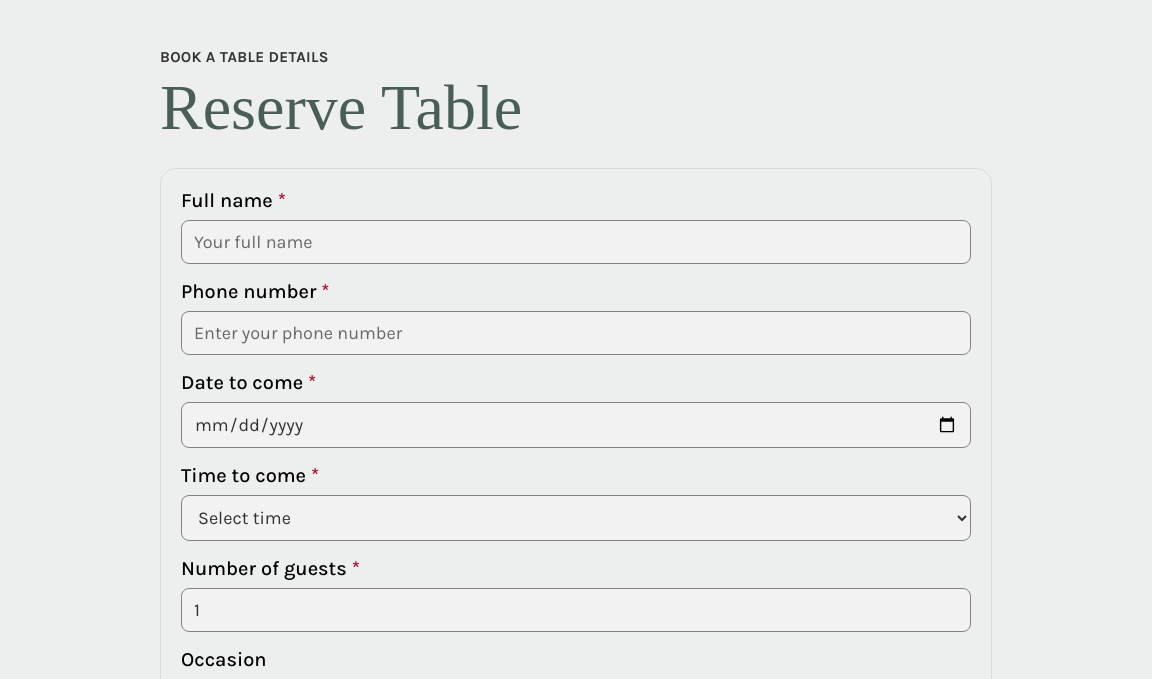
Scenario: continue navigates to review page but does not confirm yet
Type "Jim Johnson" into the field labelled "Full name *" at (576, 242), box [181, 220, 971, 264]
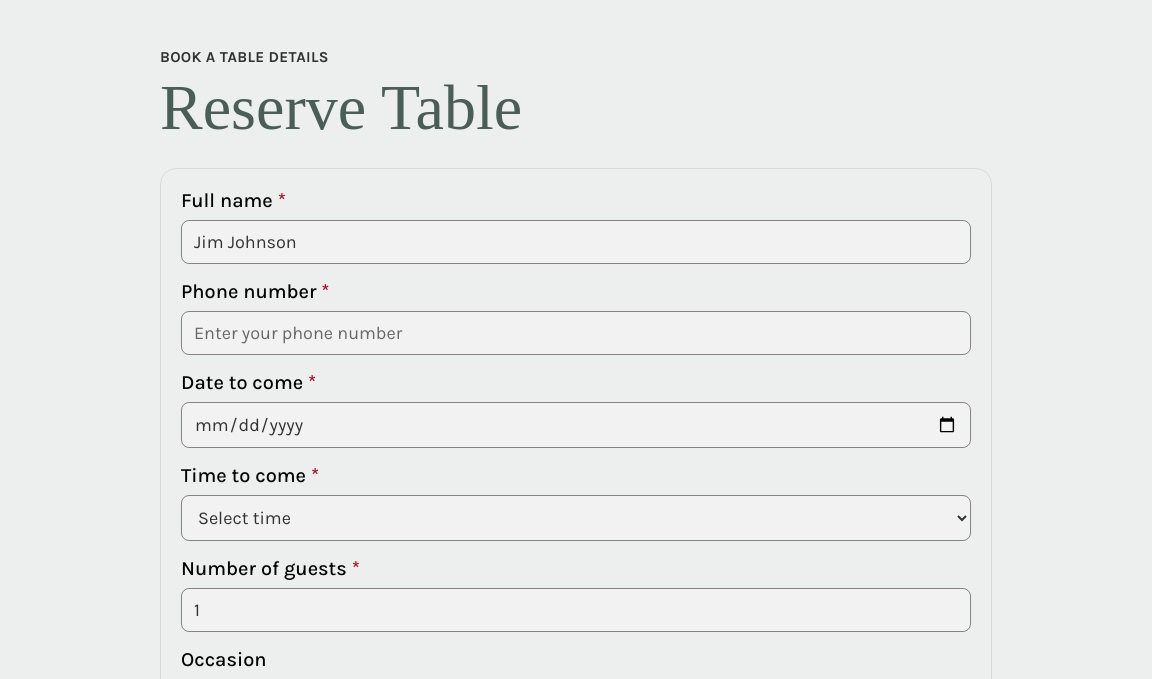
Type "(555) 555-5555" into the field labelled "Phone number *" at (576, 333), box [181, 311, 971, 355]
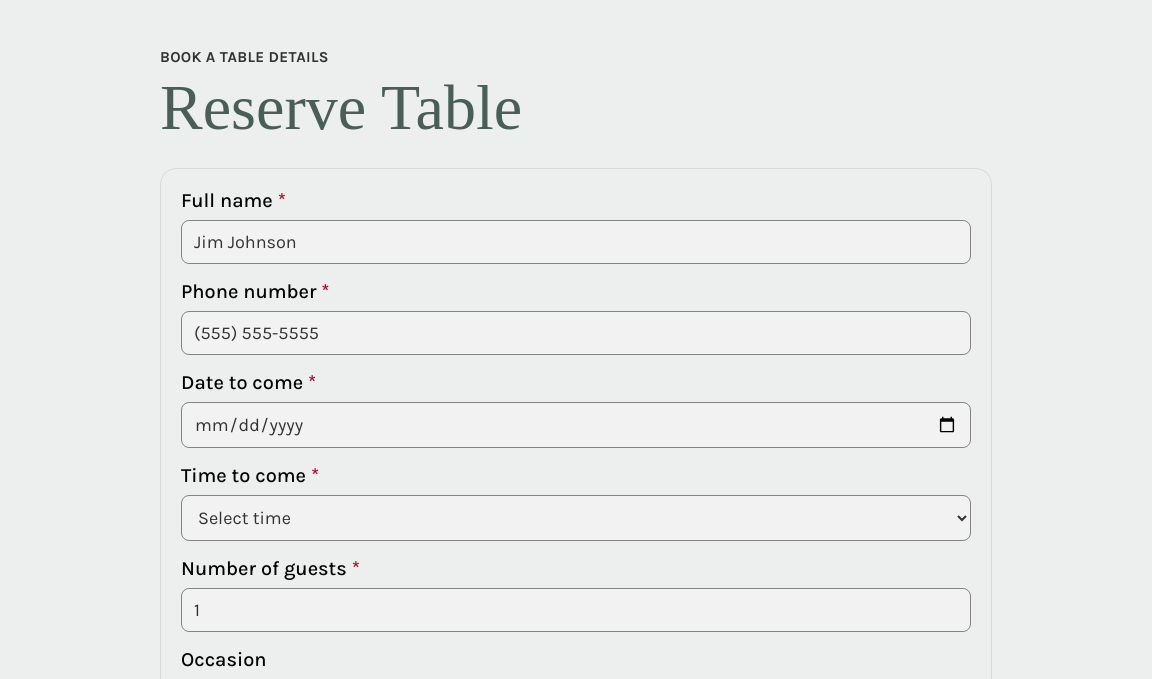
Type "2026-02-20" into the date field labelled "Date to come *" at (576, 425), box [181, 402, 971, 448]
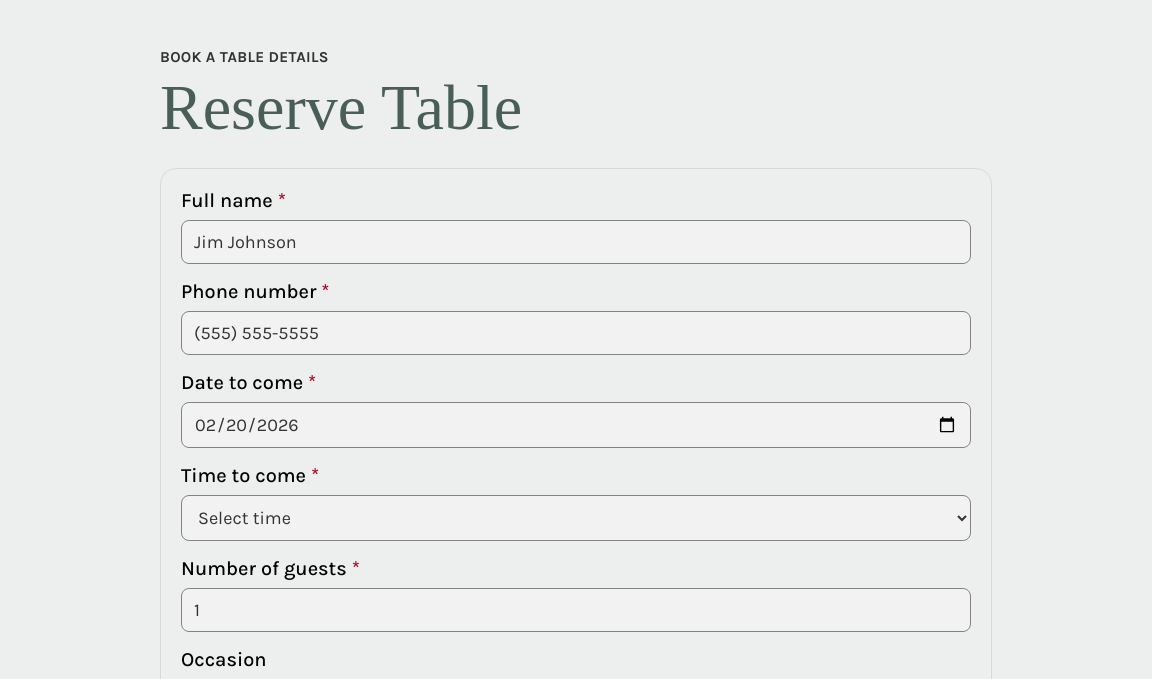
Select "5:00 PM" in the dropdown labelled "Time to come *" at (576, 518), box [181, 495, 971, 541]
(page scrolled)
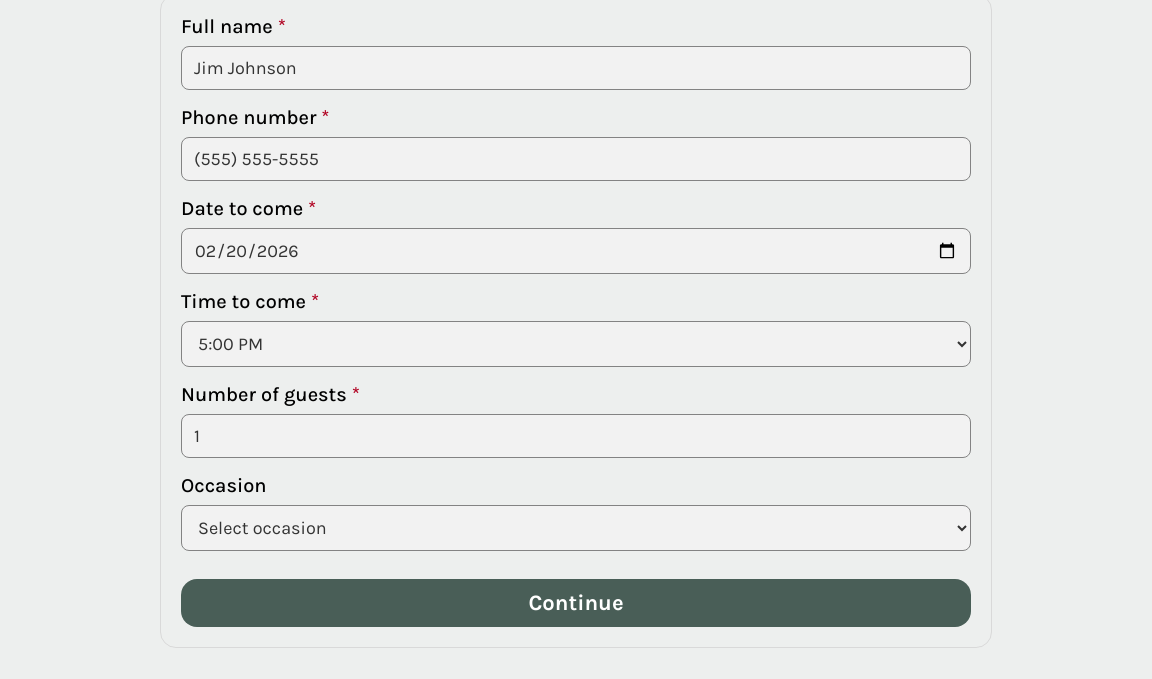
Select "Birthday" in the dropdown labelled "Occasion" at (576, 528), box [181, 505, 971, 551]
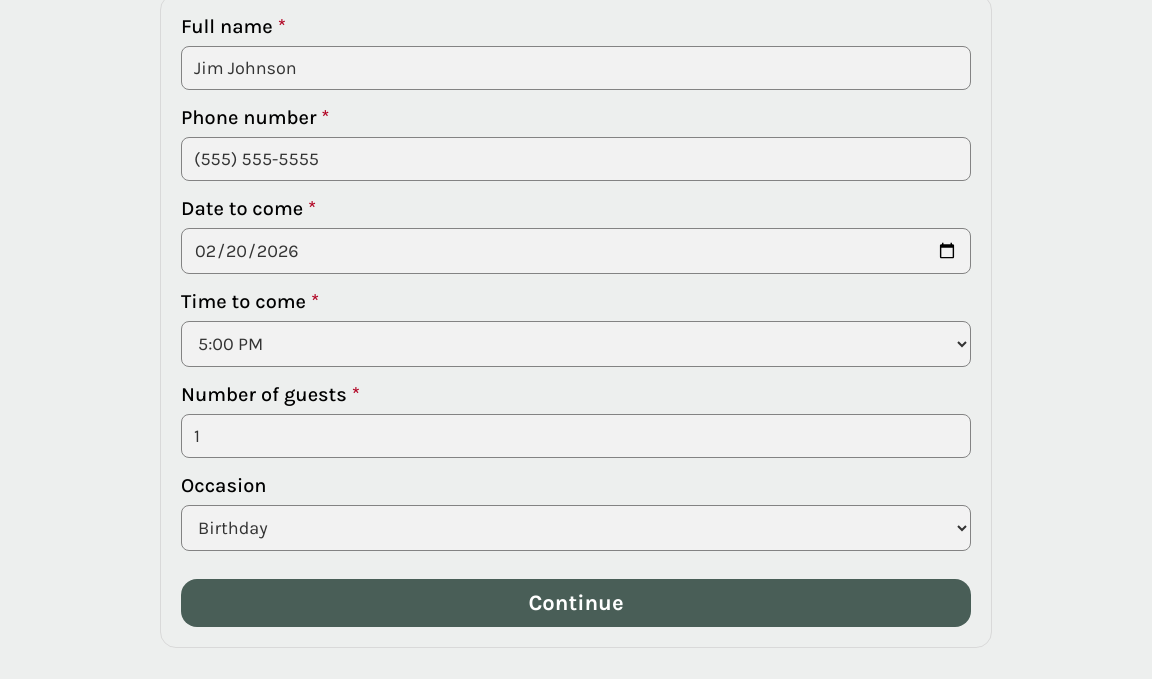
Click the button showing "Continue" at (576, 603), box [181, 579, 971, 627]
(page scrolled)
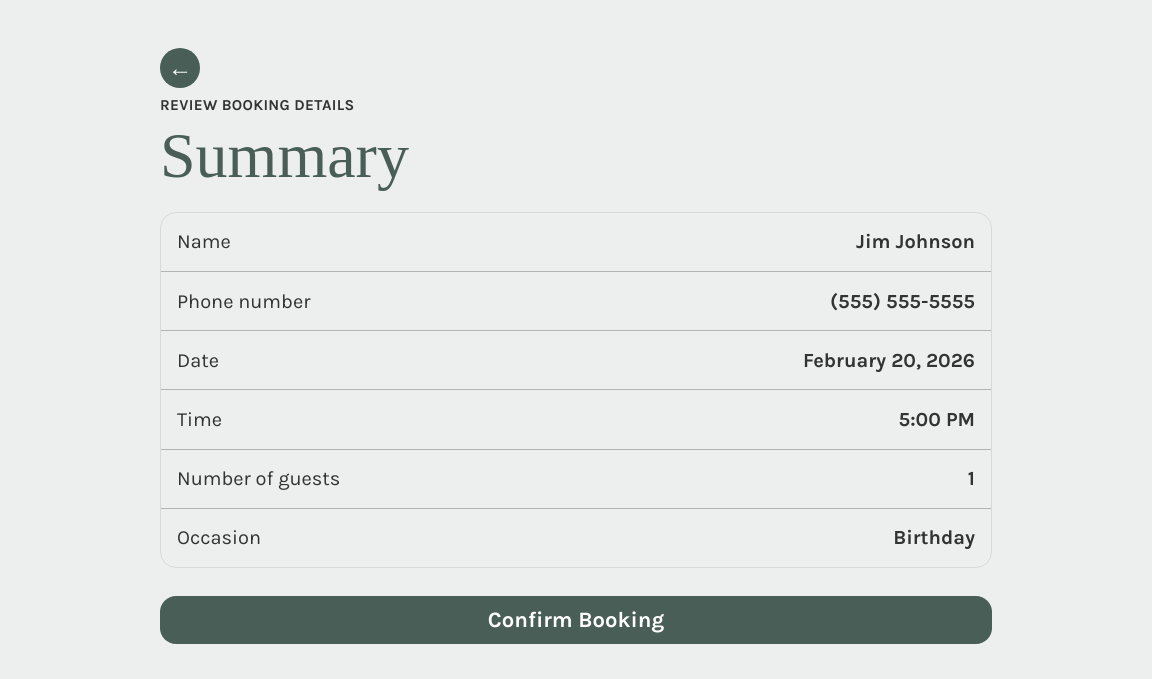
Expected: the heading "Summary" is shown, [160, 120, 409, 191]
